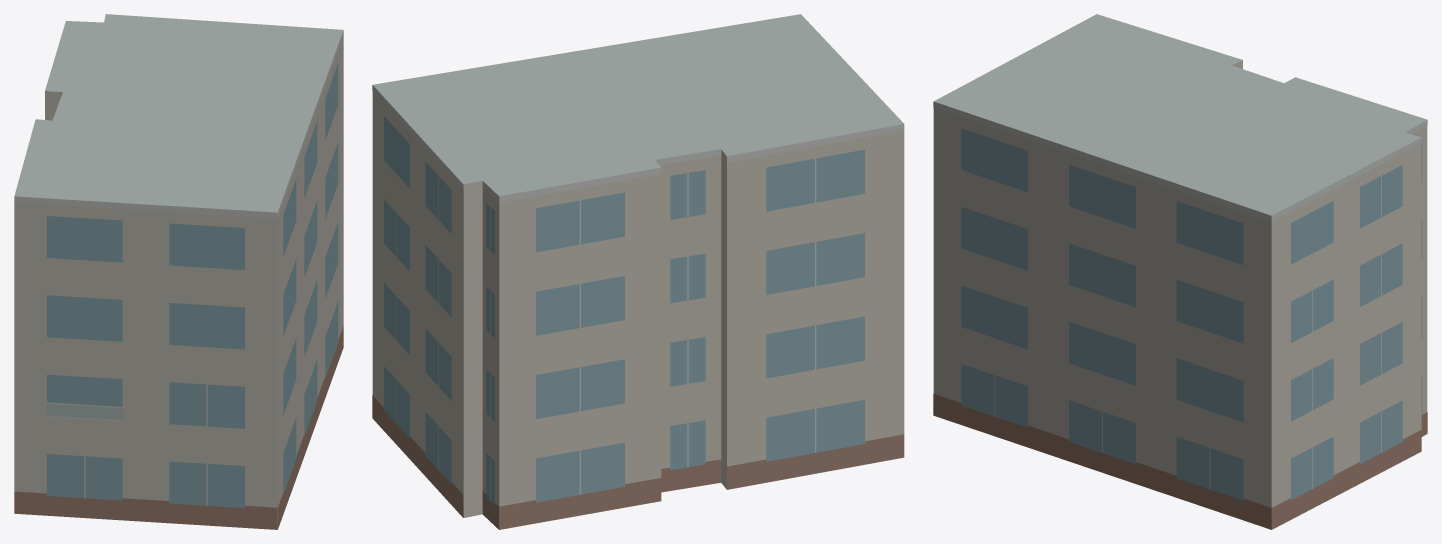
File: survey-upis-32818101.glb
The picture shows the model from 3 angles, left to right: view 1: azimuth 30°, elevation 25°; view 2: azimuth 150°, elevation 25°; view 3: azimuth 270°, elevation 25°; orthographic projection. The views are drawn at different scales.
Parts seen in each view (by area): view 1: survey-upis-32818101.tmp; view 2: survey-upis-32818101.tmp; view 3: survey-upis-32818101.tmp.
Part boxes in pixels (x1,y1,x2,y2): survey-upis-32818101.tmp: (14, 14, 343, 529); survey-upis-32818101.tmp: (372, 14, 904, 529); survey-upis-32818101.tmp: (933, 14, 1427, 529).
Size of the model in its own units: 17.5 by 12.7 by 18.1.
